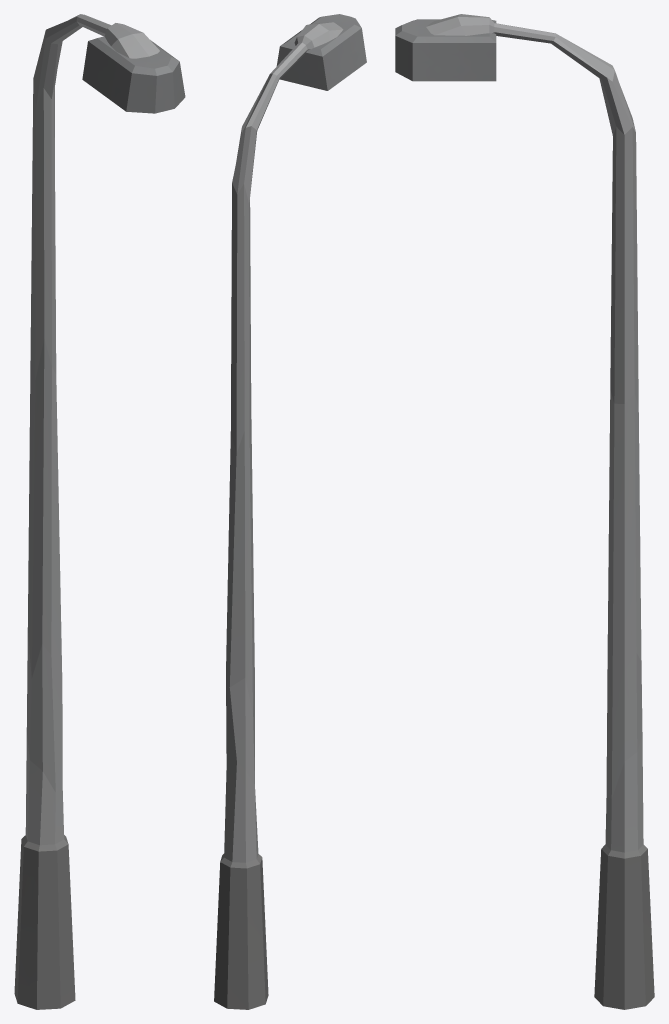
The model's file is lamp_1.glb.
The picture shows the model from 3 angles, left to right: view 1: azimuth 30°, elevation 25°; view 2: azimuth 150°, elevation 25°; view 3: azimuth 270°, elevation 25°; orthographic projection. The views are drawn at different scales.
Parts seen in each view (by area): view 1: lamp_1; view 2: lamp_1; view 3: lamp_1.
Part boxes in pixels (x1,y1,x2,y2): lamp_1: [14, 14, 185, 1009]; lamp_1: [214, 14, 366, 1009]; lamp_1: [395, 14, 654, 1009].
Bounding box in the file's own units: 0.3855 × 6.38 × 1.53.
1 material, 1 textured.
